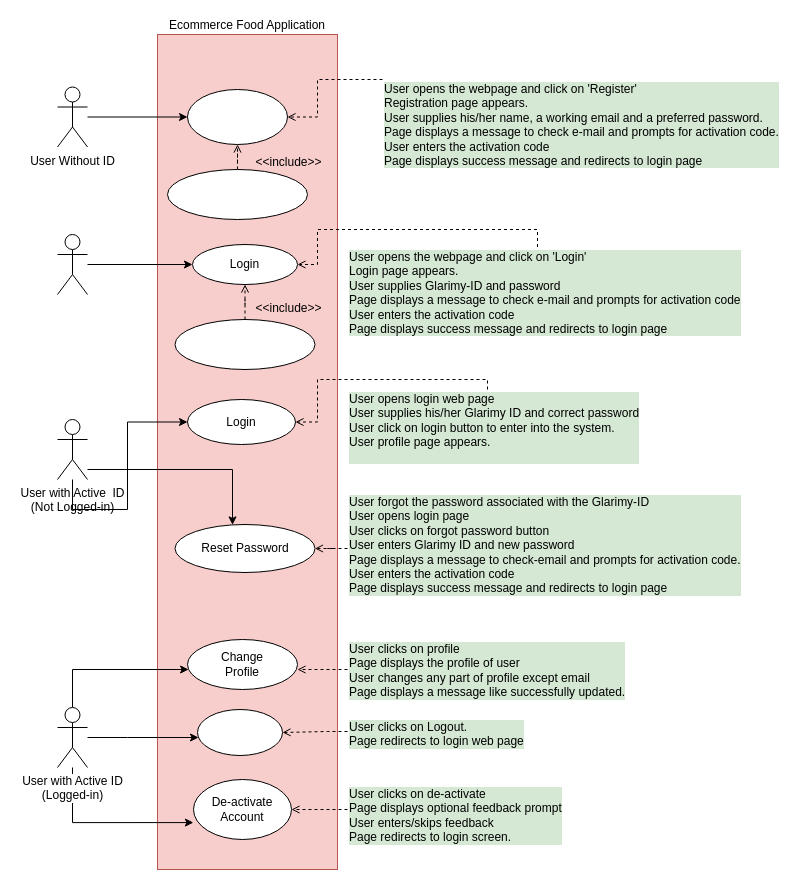
The diagram is 809 pixels wide and 887 high, and some of its shapes have lost their labels. The centre of each missing label's shape, as x and y in pixels:
Logout: (239,732)
Register: (237,116)
Resend Activation code: (244,344)
Send Activation code: (237,194)
User with Inactive ID: (72,264)
